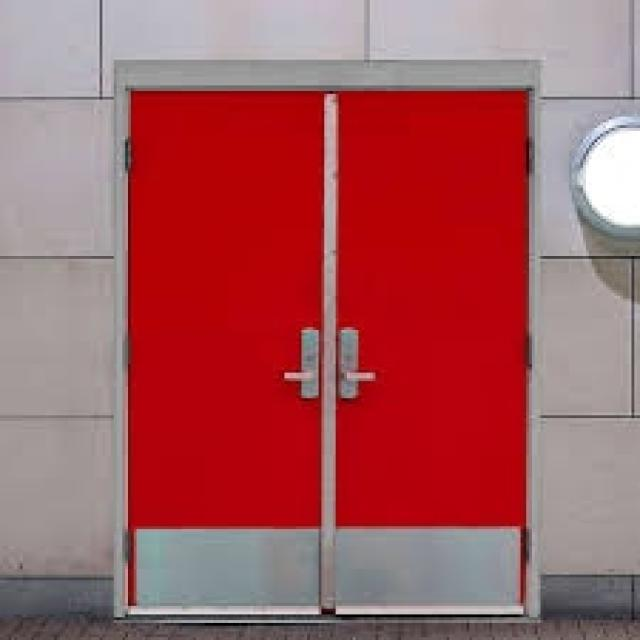door: (121, 84, 533, 619)
